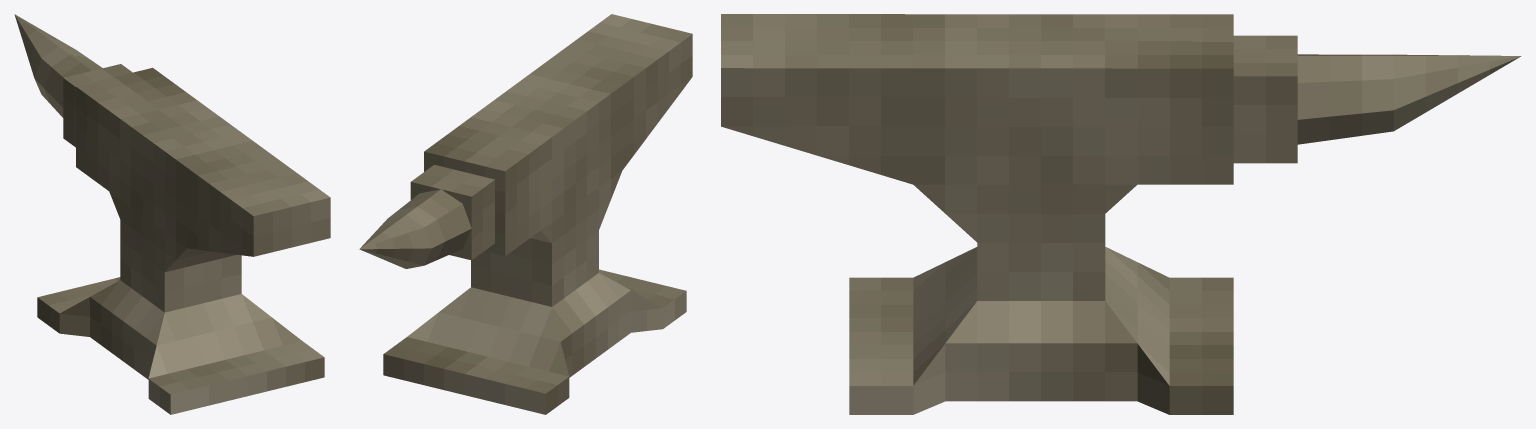
Rendered from anvil_arsenic_bronze.obj.
3 views of the same model, side by side, from view 1: azimuth 30°, elevation 25°; view 2: azimuth 150°, elevation 25°; view 3: azimuth 270°, elevation 25° (orthographic). The views are drawn at different scales.
Visible parts, largest first — view 1: Left, Top, Back; view 2: Left, Top, Front; view 3: Right, Top, Front, Back.
Part boxes in pixels (bbox=[...]): Left: bbox=[15, 15, 253, 414]; Top: bbox=[14, 14, 330, 394]; Back: bbox=[148, 197, 330, 414]; Left: bbox=[360, 34, 692, 414]; Top: bbox=[360, 14, 692, 393]; Front: bbox=[383, 151, 569, 414]; Right: bbox=[721, 56, 1520, 414]; Top: bbox=[721, 14, 1520, 385]; Front: bbox=[1105, 247, 1169, 385]; Back: bbox=[913, 247, 977, 385].
Bounding box in the file's own units: 0.5 × 0.6885 × 1.56.
